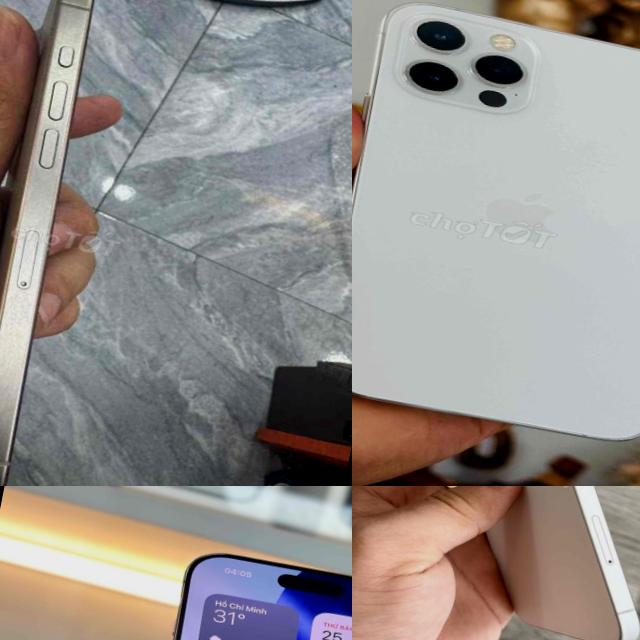gen_12_13: (352, 0, 640, 461)
gen_15: (0, 0, 149, 486)
gen_16: (86, 518, 352, 640)
gen_17: (352, 486, 640, 640)
